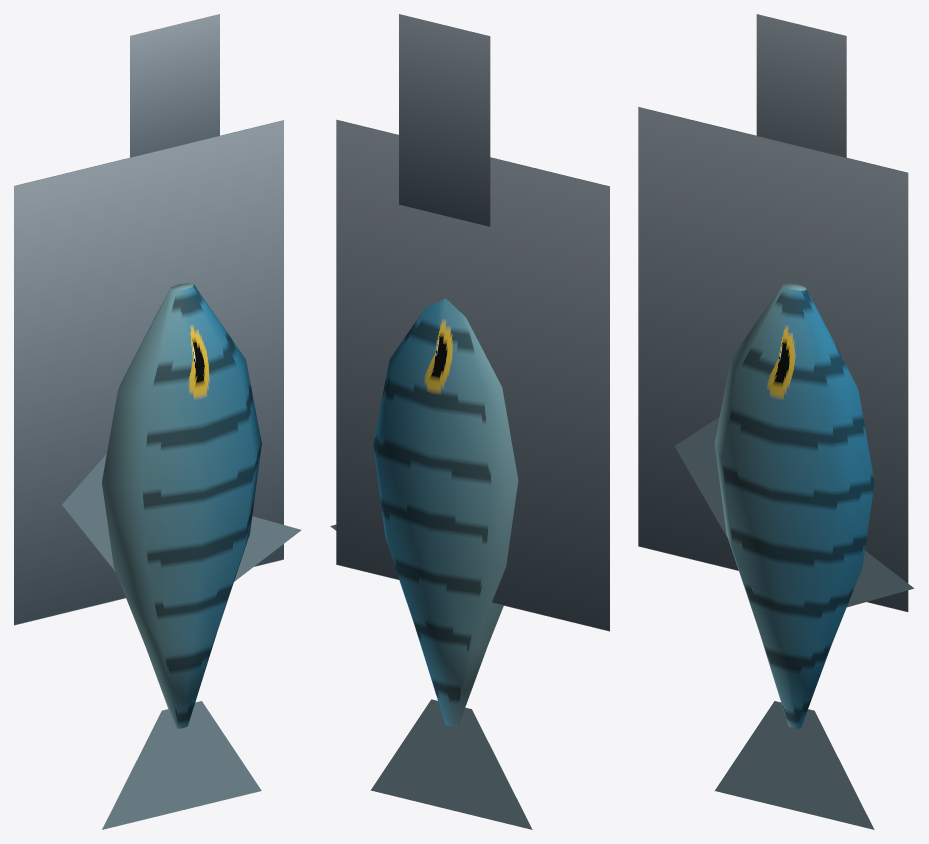
File: live_fish.glb
3 views of the same model, side by side, from view 1: azimuth 30°, elevation 25°; view 2: azimuth 150°, elevation 25°; view 3: azimuth 330°, elevation 25° (orthographic).
Parts seen in each view (by area): view 1: live_fish__Root__Hook_ALPHA_only, Live_baitfish_MESH, live_fish__Root__Leader_swivel_ALPHA_only, Baitfish_fin_MESH, Baitfish_fin_MESH.001, Baitfish_fin_MESH.002; view 2: live_fish__Root__Hook_ALPHA_only, Live_baitfish_MESH, live_fish__Root__Leader_swivel_ALPHA_only, Baitfish_fin_MESH; view 3: live_fish__Root__Hook_ALPHA_only, Live_baitfish_MESH, live_fish__Root__Leader_swivel_ALPHA_only, Baitfish_fin_MESH, Baitfish_fin_MESH.001, Baitfish_fin_MESH.002.
Part boxes in pixels (x1=…): live_fish__Root__Hook_ALPHA_only: x1=14, y1=120, x2=283, y2=625; Live_baitfish_MESH: x1=102, y1=283, x2=261, y2=728; live_fish__Root__Leader_swivel_ALPHA_only: x1=130, y1=14, x2=219, y2=157; Baitfish_fin_MESH: x1=102, y1=701, x2=261, y2=829; Baitfish_fin_MESH.001: x1=62, y1=454, x2=115, y2=571; Baitfish_fin_MESH.002: x1=234, y1=516, x2=301, y2=581; live_fish__Root__Hook_ALPHA_only: x1=336, y1=119, x2=609, y2=631; Live_baitfish_MESH: x1=373, y1=298, x2=518, y2=727; live_fish__Root__Leader_swivel_ALPHA_only: x1=399, y1=14, x2=490, y2=226; Baitfish_fin_MESH: x1=370, y1=699, x2=532, y2=829; live_fish__Root__Hook_ALPHA_only: x1=638, y1=107, x2=908, y2=611; Live_baitfish_MESH: x1=714, y1=283, x2=874, y2=728; live_fish__Root__Leader_swivel_ALPHA_only: x1=756, y1=14, x2=846, y2=157; Baitfish_fin_MESH: x1=715, y1=701, x2=874, y2=829; Baitfish_fin_MESH.001: x1=674, y1=417, x2=727, y2=538; Baitfish_fin_MESH.002: x1=847, y1=551, x2=914, y2=607.
Bounding box in the file's own units: 0.0282 × 0.0746 × 0.008.
Materials: 5 (2 with a texture image).
